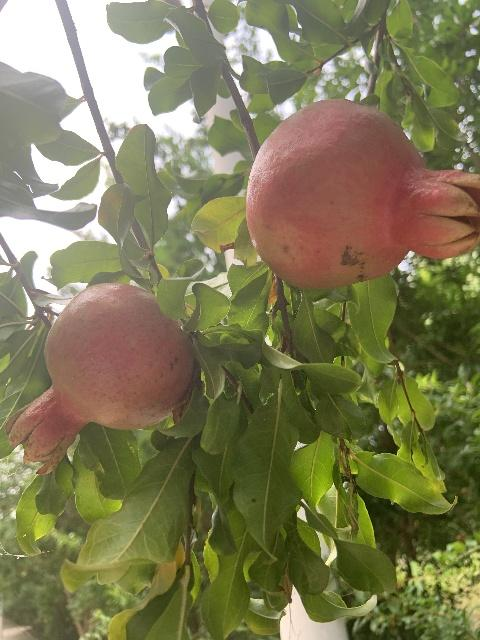ripe: (246, 100, 479, 289), (5, 283, 194, 473)
